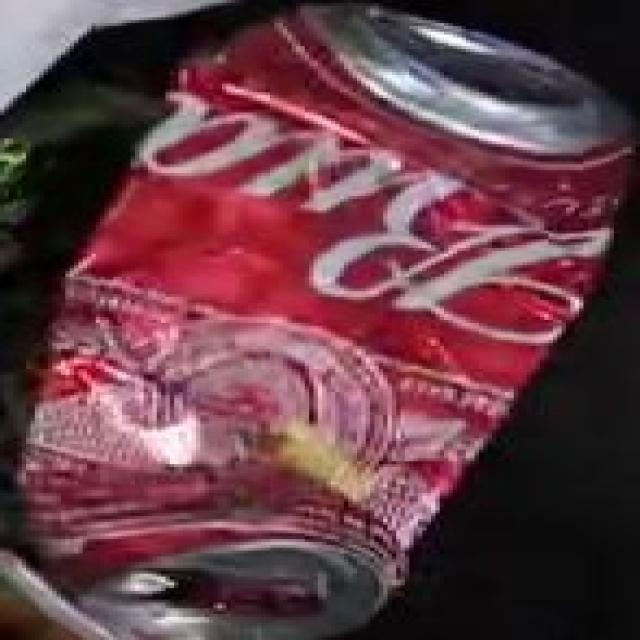litter: (0, 31, 631, 622)
